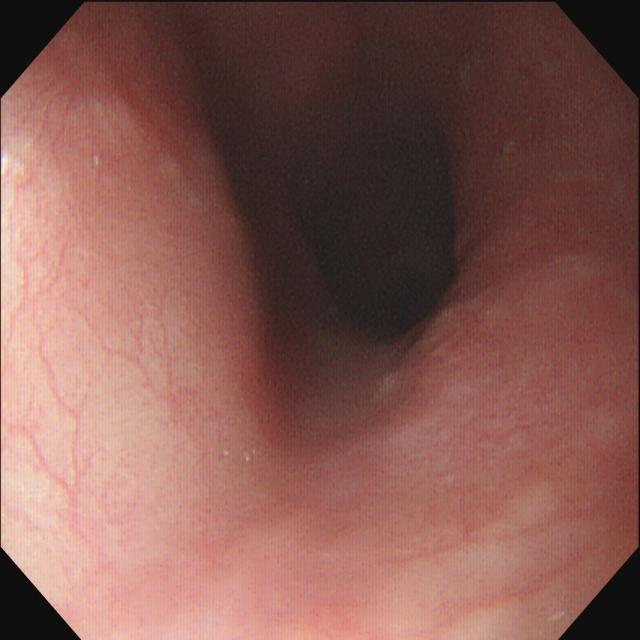E: (294, 116, 457, 346)
